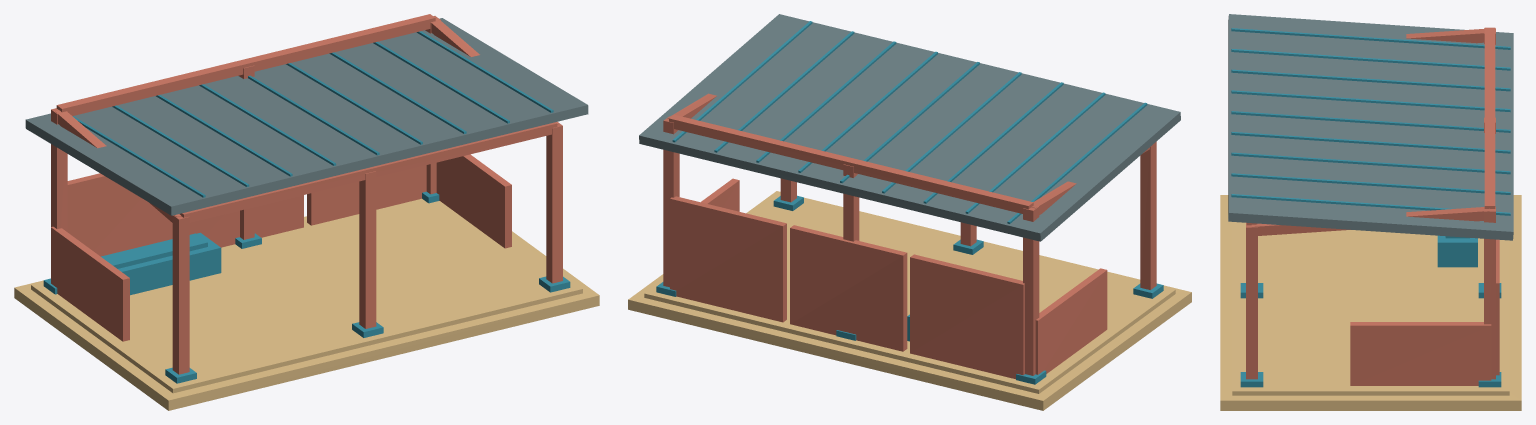
File: livestock-shelter.source.glb
3 renders of one model, left to right at view 1: azimuth 30°, elevation 25°; view 2: azimuth 150°, elevation 25°; view 3: azimuth 270°, elevation 25°, orthographic. The views are drawn at different scales.
Parts seen in each view (by area): view 1: livestock-shelter-shallow-galvanized-roof-mesh, livestock-shelter-shelter-floor-mesh, livestock-shelter-thin-earth-curb-mesh, livestock-shelter-rear-panel-1-mesh, livestock-shelter-rear-top-mesh, livestock-shelter-left-side-panel-mesh, livestock-shelter-right-side-panel-mesh, livestock-shelter-front-top-mesh, livestock-shelter-rear-panel-3-mesh, livestock-shelter-rear-panel-2-mesh, livestock-shelter-left-front-post-mesh, livestock-shelter-center-front-post-mesh (+16 smaller); view 2: livestock-shelter-shallow-galvanized-roof-mesh, livestock-shelter-shelter-floor-mesh, livestock-shelter-rear-panel-2-mesh, livestock-shelter-rear-panel-3-mesh, livestock-shelter-rear-panel-1-mesh, livestock-shelter-thin-earth-curb-mesh, livestock-shelter-rear-top-mesh, livestock-shelter-left-side-panel-mesh, livestock-shelter-left-front-post-mesh, livestock-shelter-left-rear-post-mesh, livestock-shelter-right-rear-post-mesh, livestock-shelter-center-rear-post-mesh (+11 smaller); view 3: livestock-shelter-shallow-galvanized-roof-mesh, livestock-shelter-shelter-floor-mesh, livestock-shelter-thin-earth-curb-mesh, livestock-shelter-right-side-panel-mesh, livestock-shelter-rear-top-mesh, livestock-shelter-right-front-post-mesh, livestock-shelter-right-rafter-mesh, livestock-shelter-right-rear-post-mesh, livestock-shelter-low-water-trough-mesh, livestock-shelter-roof-seam-1-mesh, livestock-shelter-roof-seam-3-mesh, livestock-shelter-roof-seam-4-mesh (+9 smaller).
Part boxes in pixels (left/top/right/bottom): livestock-shelter-shallow-galvanized-roof-mesh: left=25, top=18, right=588, bottom=215; livestock-shelter-shelter-floor-mesh: left=31, top=198, right=582, bottom=393; livestock-shelter-thin-earth-curb-mesh: left=14, top=216, right=599, bottom=410; livestock-shelter-rear-panel-1-mesh: left=67, top=173, right=172, bottom=256; livestock-shelter-rear-top-mesh: left=56, top=14, right=435, bottom=115; livestock-shelter-left-side-panel-mesh: left=51, top=226, right=129, bottom=341; livestock-shelter-right-side-panel-mesh: left=436, top=154, right=511, bottom=248; livestock-shelter-front-top-mesh: left=179, top=122, right=557, bottom=222; livestock-shelter-rear-panel-3-mesh: left=307, top=165, right=426, bottom=225; livestock-shelter-rear-panel-2-mesh: left=189, top=195, right=303, bottom=247; livestock-shelter-left-front-post-mesh: left=172, top=215, right=189, bottom=374; livestock-shelter-center-front-post-mesh: left=359, top=171, right=376, bottom=328; livestock-shelter-shallow-galvanized-roof-mesh: left=639, top=14, right=1180, bottom=241; livestock-shelter-shelter-floor-mesh: left=644, top=194, right=1175, bottom=393; livestock-shelter-rear-panel-2-mesh: left=790, top=225, right=907, bottom=351; livestock-shelter-rear-panel-3-mesh: left=670, top=196, right=786, bottom=322; livestock-shelter-rear-panel-1-mesh: left=910, top=254, right=1024, bottom=379; livestock-shelter-thin-earth-curb-mesh: left=628, top=191, right=1191, bottom=410; livestock-shelter-rear-top-mesh: left=669, top=114, right=1033, bottom=213; livestock-shelter-left-side-panel-mesh: left=1035, top=268, right=1107, bottom=374; livestock-shelter-left-front-post-mesh: left=1140, top=141, right=1156, bottom=289; livestock-shelter-left-rear-post-mesh: left=1023, top=205, right=1039, bottom=375; livestock-shelter-right-rear-post-mesh: left=663, top=116, right=679, bottom=287; livestock-shelter-center-rear-post-mesh: left=843, top=164, right=859, bottom=241; livestock-shelter-shallow-galvanized-roof-mesh: left=1228, top=14, right=1513, bottom=240; livestock-shelter-shelter-floor-mesh: left=1232, top=222, right=1509, bottom=395; livestock-shelter-thin-earth-curb-mesh: left=1220, top=195, right=1521, bottom=410; livestock-shelter-right-side-panel-mesh: left=1350, top=322, right=1491, bottom=385; livestock-shelter-rear-top-mesh: left=1484, top=27, right=1495, bottom=208; livestock-shelter-right-front-post-mesh: left=1246, top=222, right=1257, bottom=379; livestock-shelter-right-rafter-mesh: left=1251, top=207, right=1489, bottom=235; livestock-shelter-right-rear-post-mesh: left=1484, top=206, right=1495, bottom=379; livestock-shelter-low-water-trough-mesh: left=1437, top=235, right=1477, bottom=267; livestock-shelter-roof-seam-1-mesh: left=1231, top=28, right=1510, bottom=49; livestock-shelter-roof-seam-3-mesh: left=1231, top=69, right=1510, bottom=91; livestock-shelter-roof-seam-4-mesh: left=1231, top=90, right=1510, bottom=112.
Bounding box in the file's own units: 6.05 × 2.7 × 3.75.
